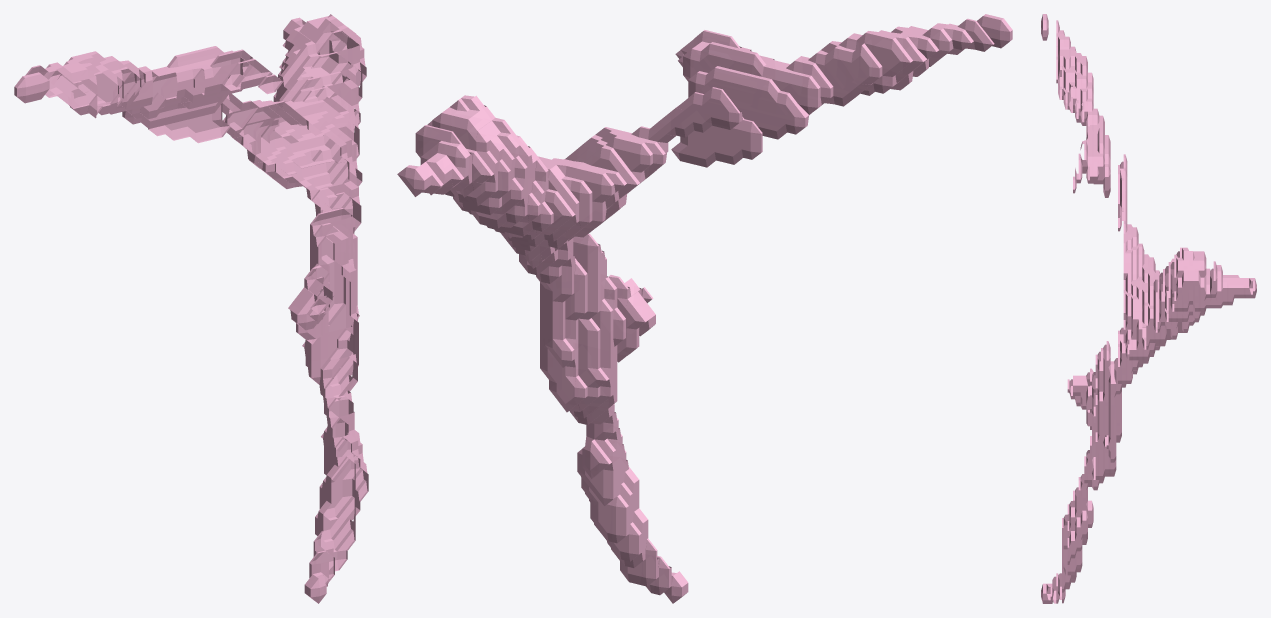
The model's file is SVV_ALML.gltf.
3 views of the same model, side by side, from view 1: azimuth 30°, elevation 25°; view 2: azimuth 150°, elevation 25°; view 3: azimuth 270°, elevation 25° (orthographic). The views are drawn at different scales.
Visible parts, largest first — view 1: ALML; view 2: ALML; view 3: ALML.
Part boxes in pixels (bbox=[...]): ALML: bbox=[14, 14, 368, 603]; ALML: bbox=[397, 14, 1012, 603]; ALML: bbox=[1041, 14, 1256, 603].
Size of the model in its own units: 27149 by 35855 by 14731.
